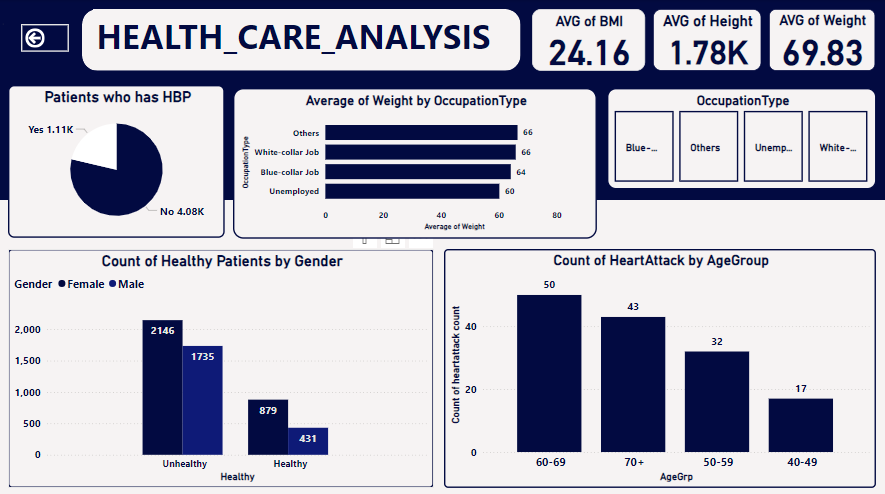

The dashboard page shown, as its layout file describes it:
{"tool":"powerbi","page":{"name":"Page 2","canvas":[1280,720],"ordinal":1},"visuals":[{"type":"shape","box":[0,0,1280,290.1],"z":0},{"type":"shape","box":[0,289.4,1280.2,430.6],"z":1000},{"type":"shape","box":[117.6,15.1,631.6,89],"z":2000},{"type":"textbox","box":[134.4,15.1,594.6,77.3],"z":3000},{"type":"clusteredColumnChart","title":"Count of HeartAttack by AgeGroup","fields":{"Category":["Table1.AgeGrp"],"Series":["Table1.HeartAttack"],"Y":["CountNonNull(Table1.heartattack count)"]},"box":[640,359.5,621.5,344.4],"z":4000},{"type":"clusteredColumnChart","title":"Count of Healthy Patients by Gender","fields":{"Y":["CountNonNull(Table1.Count of Gender)"],"Series":["Table1.Gender"],"Category":["Table1.Healthy"]},"box":[11.8,359.5,613.1,344.4],"z":5000},{"type":"pieChart","title":"Patients who has HBP","fields":{"Category":["Table1.HBP"],"Y":["CountNonNull(Table1.Gender)"]},"box":[11.8,124.3,312.4,220.1],"z":6000},{"type":"card","title":"AVG of Weight","fields":{"Values":["Avg(Table1.Weight)"]},"box":[1107,15.1,152.9,89],"z":8000},{"type":"card","title":"AVG of Height","fields":{"Values":["Sum(Table1.Height)"]},"box":[940.7,15.1,156.2,89],"z":9000},{"type":"card","title":"AVG of BMI","fields":{"Values":["Avg(Table1.BMI)"]},"box":[766,15.1,162.9,89],"z":10000},{"type":"actionButton","box":[30.4,35.4,69.1,40.5],"z":11000},{"type":"actionButton","box":[0,32,99.5,8.4],"z":12000},{"type":"clusteredBarChart","fields":{"Y":["Avg(Table1.Weight)"],"Category":["Table1.OccupationType"]},"box":[336,127.7,524.1,216.7],"z":12001},{"type":"advancedSlicerVisual","fields":{"Values":["Table1.OccupationType"]},"box":[873.5,127.7,388,146.1],"z":12002}]}

Visuals, with their boxes in screenshot pixels (x1, y1, x2, y2), scaled from the page's 1280x720 canvas onto the 885x494 screenshot:
shape: [0,0,884,199]
shape: [0,199,884,493]
shape: [81,10,518,71]
textbox: [93,10,504,63]
"Count of HeartAttack by AgeGroup" clusteredColumnChart: [442,247,872,483]
"Count of Healthy Patients by Gender" clusteredColumnChart: [8,247,432,483]
"Patients who has HBP" pieChart: [8,85,224,236]
"AVG of Weight" card: [765,10,871,71]
"AVG of Height" card: [650,10,758,71]
"AVG of BMI" card: [530,10,642,71]
actionButton: [21,24,69,52]
actionButton: [0,22,69,28]
clusteredBarChart - Avg(Table1.Weight) x Table1.OccupationType: [232,88,595,236]
advancedSlicerVisual - Table1.OccupationType: [604,88,872,188]
